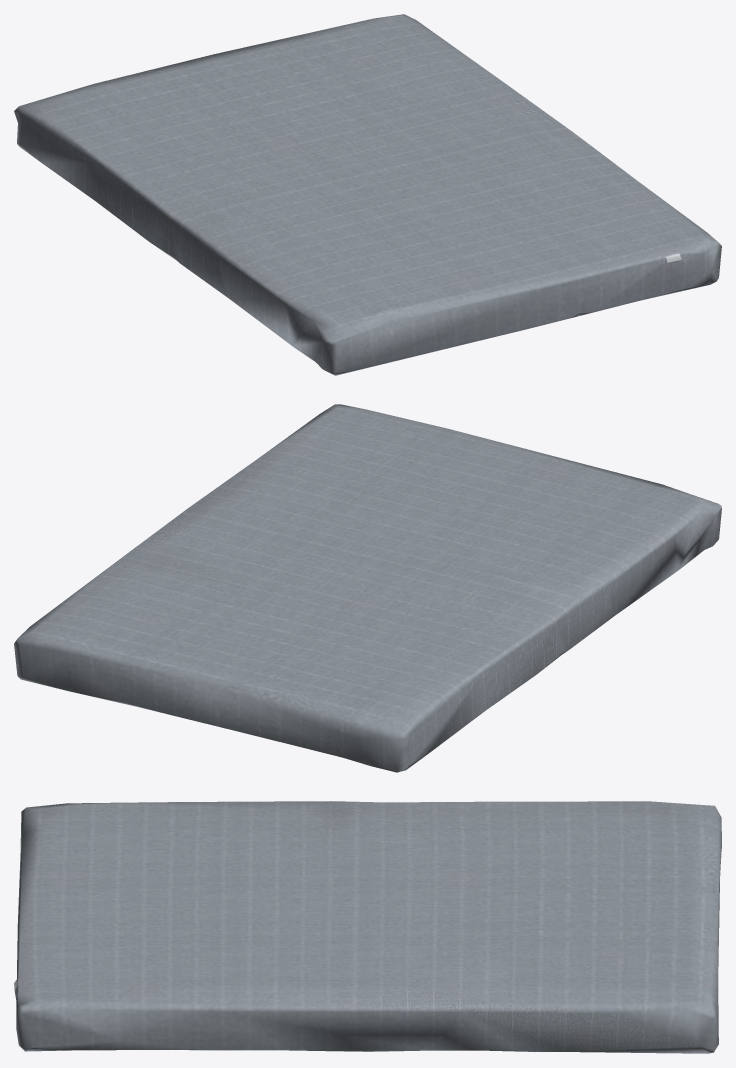
Rendered from 03 - VADSÖ Sprung mattress - firmlight blue 140x200 cm.glb.
3 views of the same model, one above another, from view 1: azimuth 30°, elevation 25°; view 2: azimuth 150°, elevation 25°; view 3: azimuth 270°, elevation 25° (orthographic). The views are drawn at different scales.
Visible parts, largest first — view 1: ASY_ART_90451229_S01_NV01; view 2: ASY_ART_90451229_S01_NV01; view 3: ASY_ART_90451229_S01_NV01.
Part boxes in pixels (x1,y1,x2,y2): ASY_ART_90451229_S01_NV01: (14, 14, 721, 375); ASY_ART_90451229_S01_NV01: (14, 404, 721, 772); ASY_ART_90451229_S01_NV01: (14, 801, 721, 1053).
Size of the model in its own units: 1.41 by 0.1717 by 2.01.
Materials: 1 (1 with a texture image).
